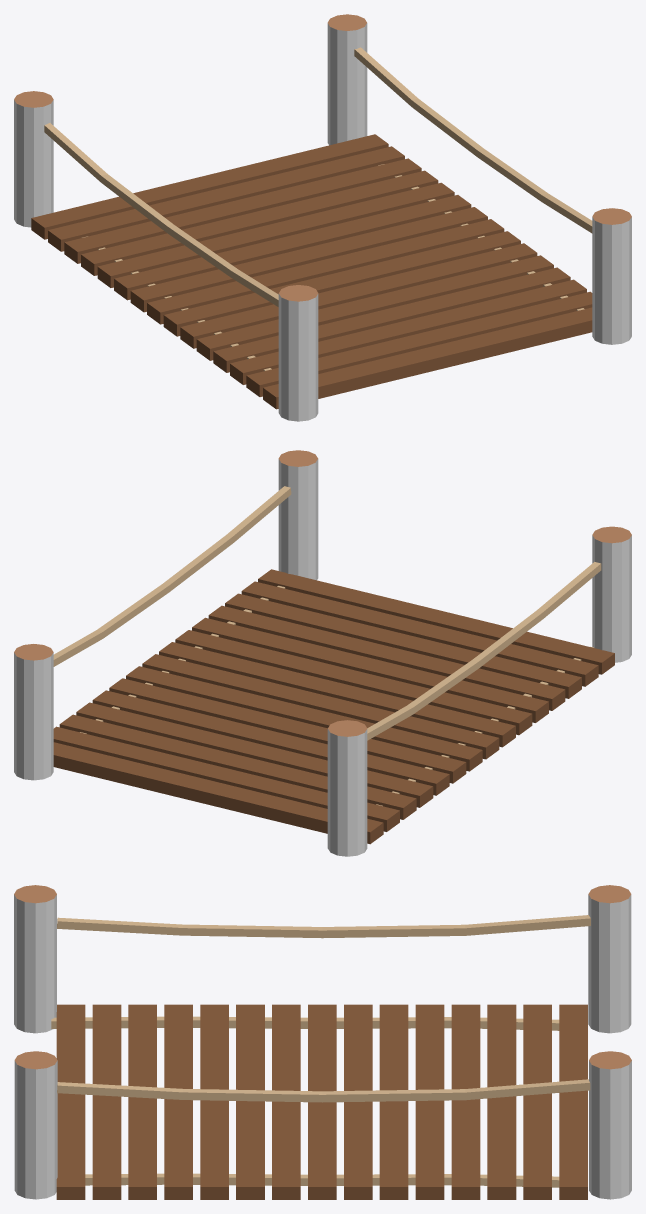
Rendered from bridge.fbx.
3 renders of one model, top to bottom at view 1: azimuth 30°, elevation 25°; view 2: azimuth 150°, elevation 25°; view 3: azimuth 270°, elevation 25°, orthographic. The views are drawn at different scales.
Parts seen in each view (by area): view 1: planks, upperRope, log4, log3, log1, log2; view 2: planks, upperRope, log1, log2, log4, log3; view 3: planks, upperRope, log3, log1, log2, log4, lowerRope.
Boxes of the visible parts, <box> form: planks: <box>31,134,592,409</box>; upperRope: <box>44,47,592,306</box>; log4: <box>278,285,318,421</box>; log3: <box>592,208,631,344</box>; log1: <box>14,91,53,227</box>; log2: <box>327,14,367,145</box>; planks: <box>53,569,614,844</box>; upperRope: <box>53,486,601,740</box>; log1: <box>327,720,367,856</box>; log2: <box>14,644,53,780</box>; log4: <box>592,526,631,662</box>; log3: <box>278,450,318,580</box>; planks: <box>56,1004,587,1199</box>; upperRope: <box>57,915,590,1102</box>; log3: <box>14,1051,57,1199</box>; log1: <box>588,885,631,1033</box>; log2: <box>589,1051,631,1199</box>; log4: <box>14,885,56,1033</box>; lowerRope: <box>51,1016,559,1187</box>.
Size of the model in its own units: 304 by 100 by 430.
